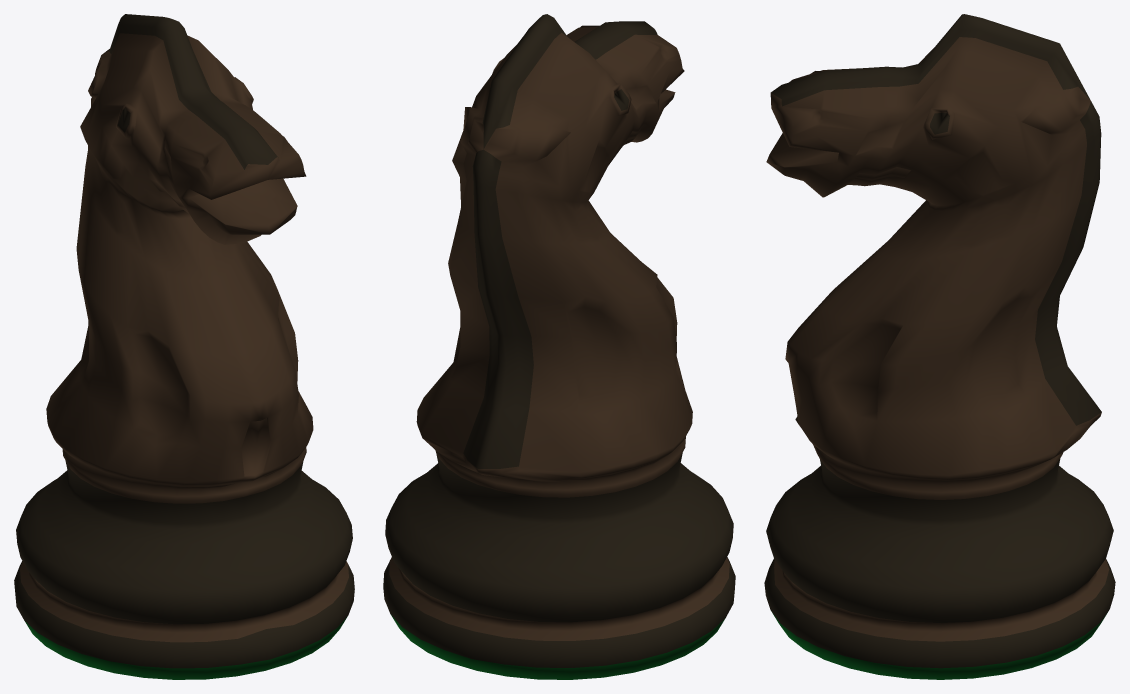
Rendered from KINGDARK.fbx.
The picture shows the model from 3 angles, left to right: view 1: azimuth 30°, elevation 25°; view 2: azimuth 150°, elevation 25°; view 3: azimuth 270°, elevation 25°; orthographic projection. The views are drawn at different scales.
Visible parts, largest first — view 1: Black Knight K; view 2: Black Knight K; view 3: Black Knight K.
Part boxes in pixels (x1,y1,x2,y2): Black Knight K: (14,14,354,679); Black Knight K: (383,14,735,679); Black Knight K: (764,14,1115,679).
Bounding box in the file's own units: 2.99 × 5.65 × 3.01.
